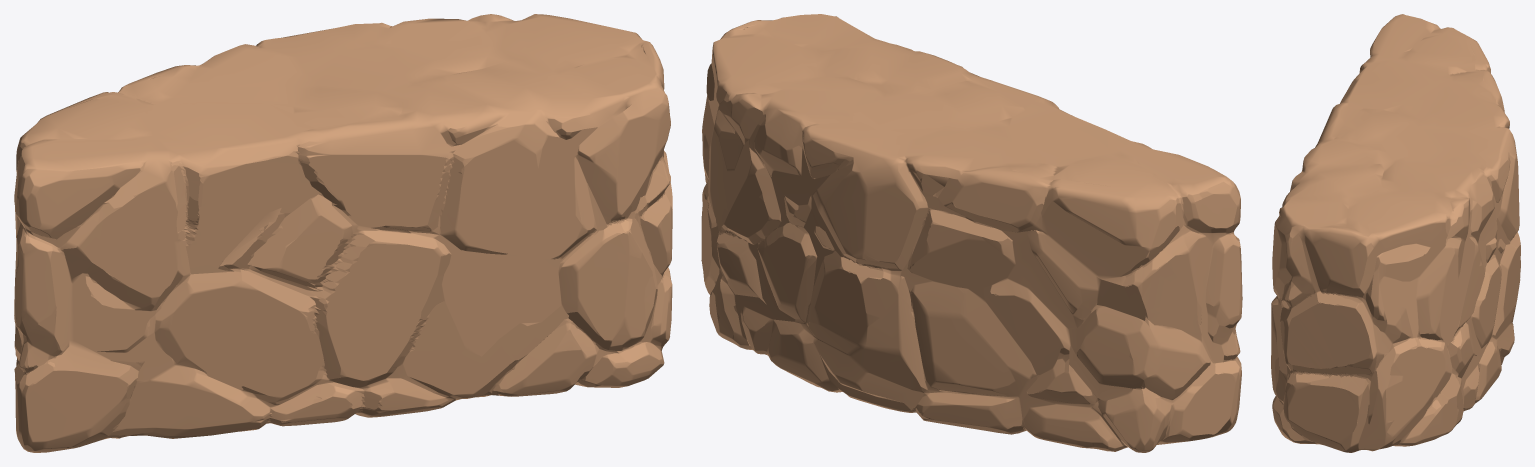
The picture shows the model from 3 angles, left to right: view 1: azimuth 30°, elevation 25°; view 2: azimuth 150°, elevation 25°; view 3: azimuth 270°, elevation 25°; orthographic projection. The views are drawn at different scales.
Parts seen in each view (by area): view 1: Mesh_116_LOD0; view 2: Mesh_116_LOD0; view 3: Mesh_116_LOD0.
Part boxes in pixels (<box>): Mesh_116_LOD0: <box>14,14,672,452</box>; Mesh_116_LOD0: <box>701,14,1242,452</box>; Mesh_116_LOD0: <box>1271,14,1520,452</box>.
Size of what is drawn, in the model's own units: 5742 by 2645 by 2623.
